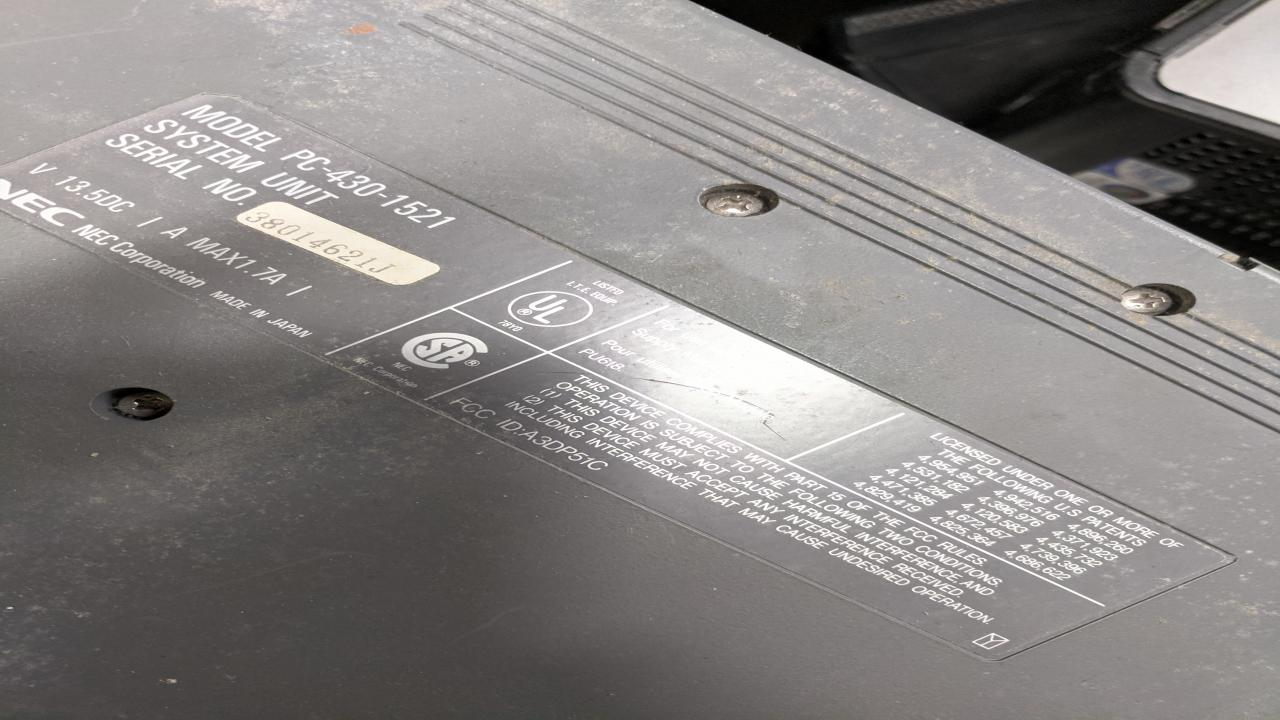CRS: (692, 188, 778, 220), (1112, 283, 1187, 318), (110, 386, 182, 421)
